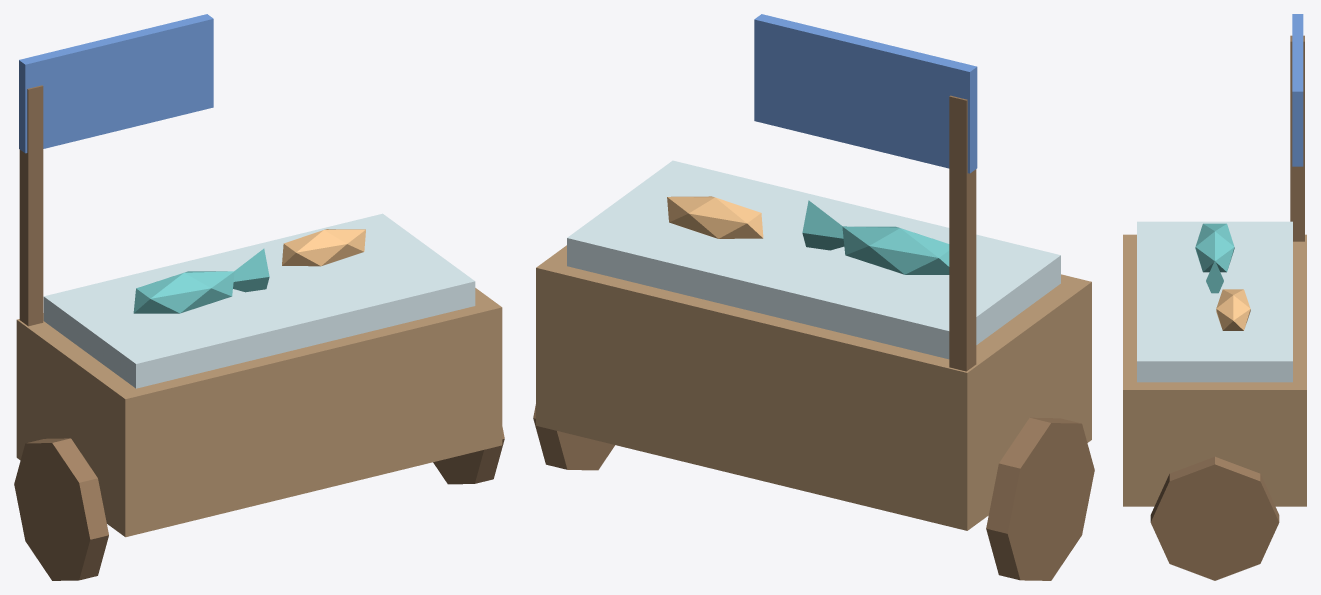
Rendered from FishmongerCart.fbx.
3 views of the same model, side by side, from view 1: azimuth 30°, elevation 25°; view 2: azimuth 150°, elevation 25°; view 3: azimuth 270°, elevation 25° (orthographic). The views are drawn at different scales.
Visible parts, largest first — view 1: Body; view 2: Body; view 3: Body.
Part boxes in pixels (<box>): Body: <box>14,14,504,580</box>; Body: <box>533,14,1094,580</box>; Body: <box>1123,14,1306,580</box>.
Bounding box in the file's own units: 2.2 × 2.42 × 1.
